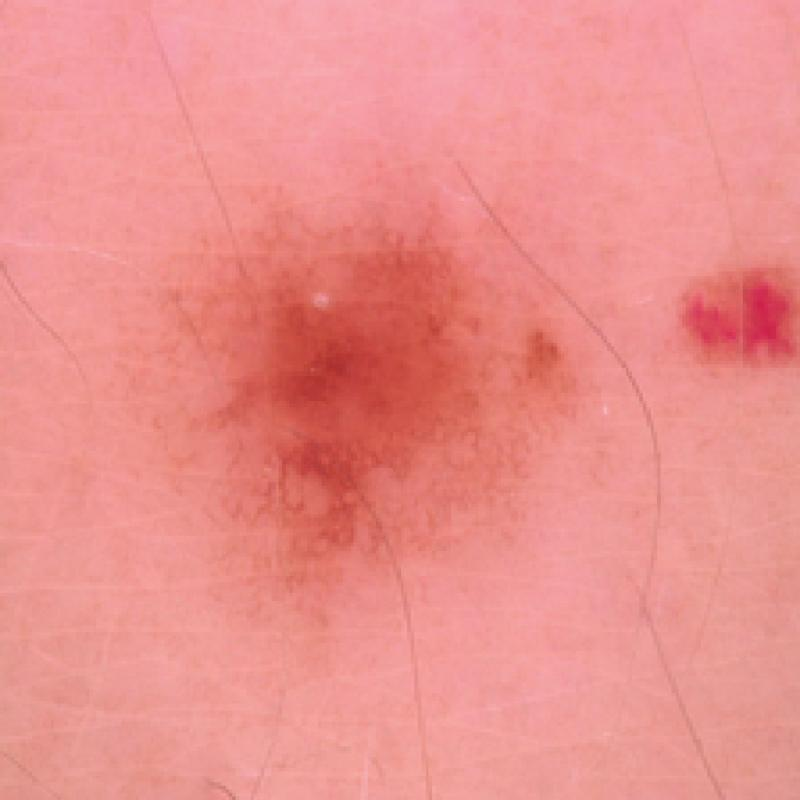benign: (130, 179, 593, 634), (658, 231, 798, 400)
